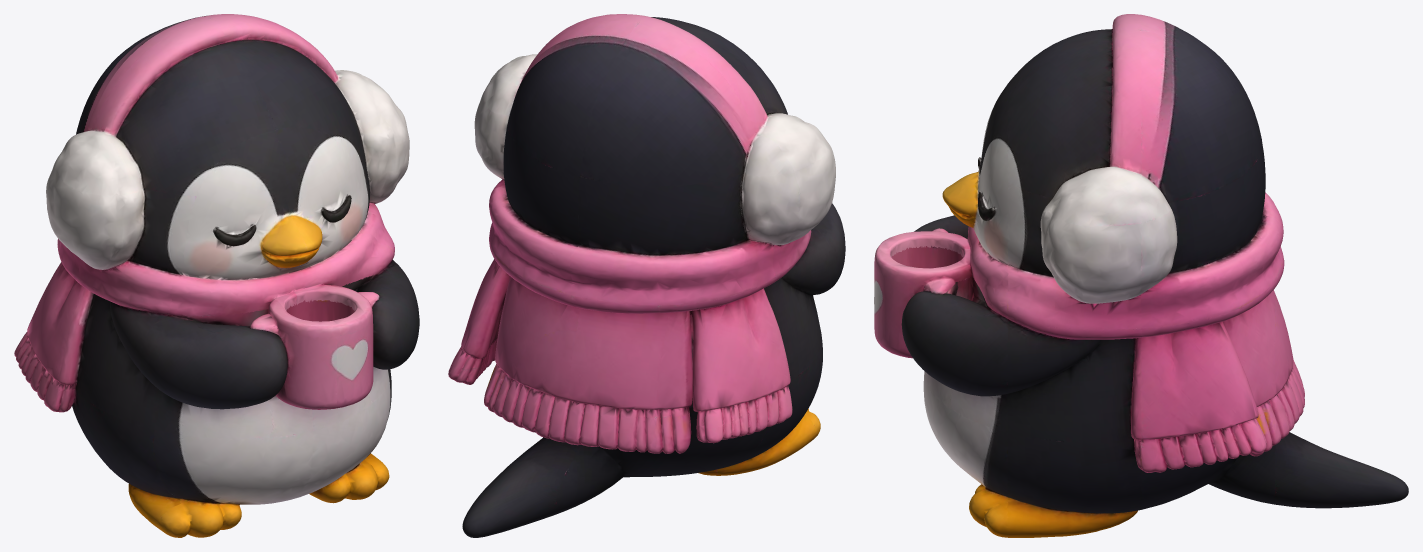
Rendered from model-mobile-v001.glb.
3 views of the same model, side by side, from view 1: azimuth 30°, elevation 25°; view 2: azimuth 150°, elevation 25°; view 3: azimuth 270°, elevation 25° (orthographic). The views are drawn at different scales.
Parts seen in each view (by area): view 1: tmpfai6f5_8obj; view 2: tmpfai6f5_8obj; view 3: tmpfai6f5_8obj.
Part boxes in pixels (box(x1,y1,x2,y2)): tmpfai6f5_8obj: box(14, 14, 419, 537); tmpfai6f5_8obj: box(448, 14, 845, 537); tmpfai6f5_8obj: box(874, 14, 1408, 537).
Bounding box in the file's own units: 0.7535 × 0.9505 × 0.9999.
1 material, 1 textured.
